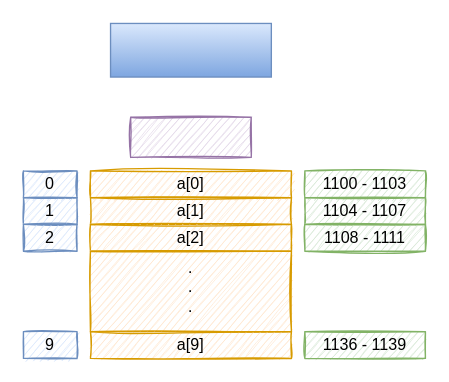
Some shapes in this 449 by 382 pixel diagram are drawn without their labels. Here are the shapes that lost their labels. From the top down, the centre of each, then its label:
pixel 190 49: 数组地址
pixel 190 136: int a[10]
